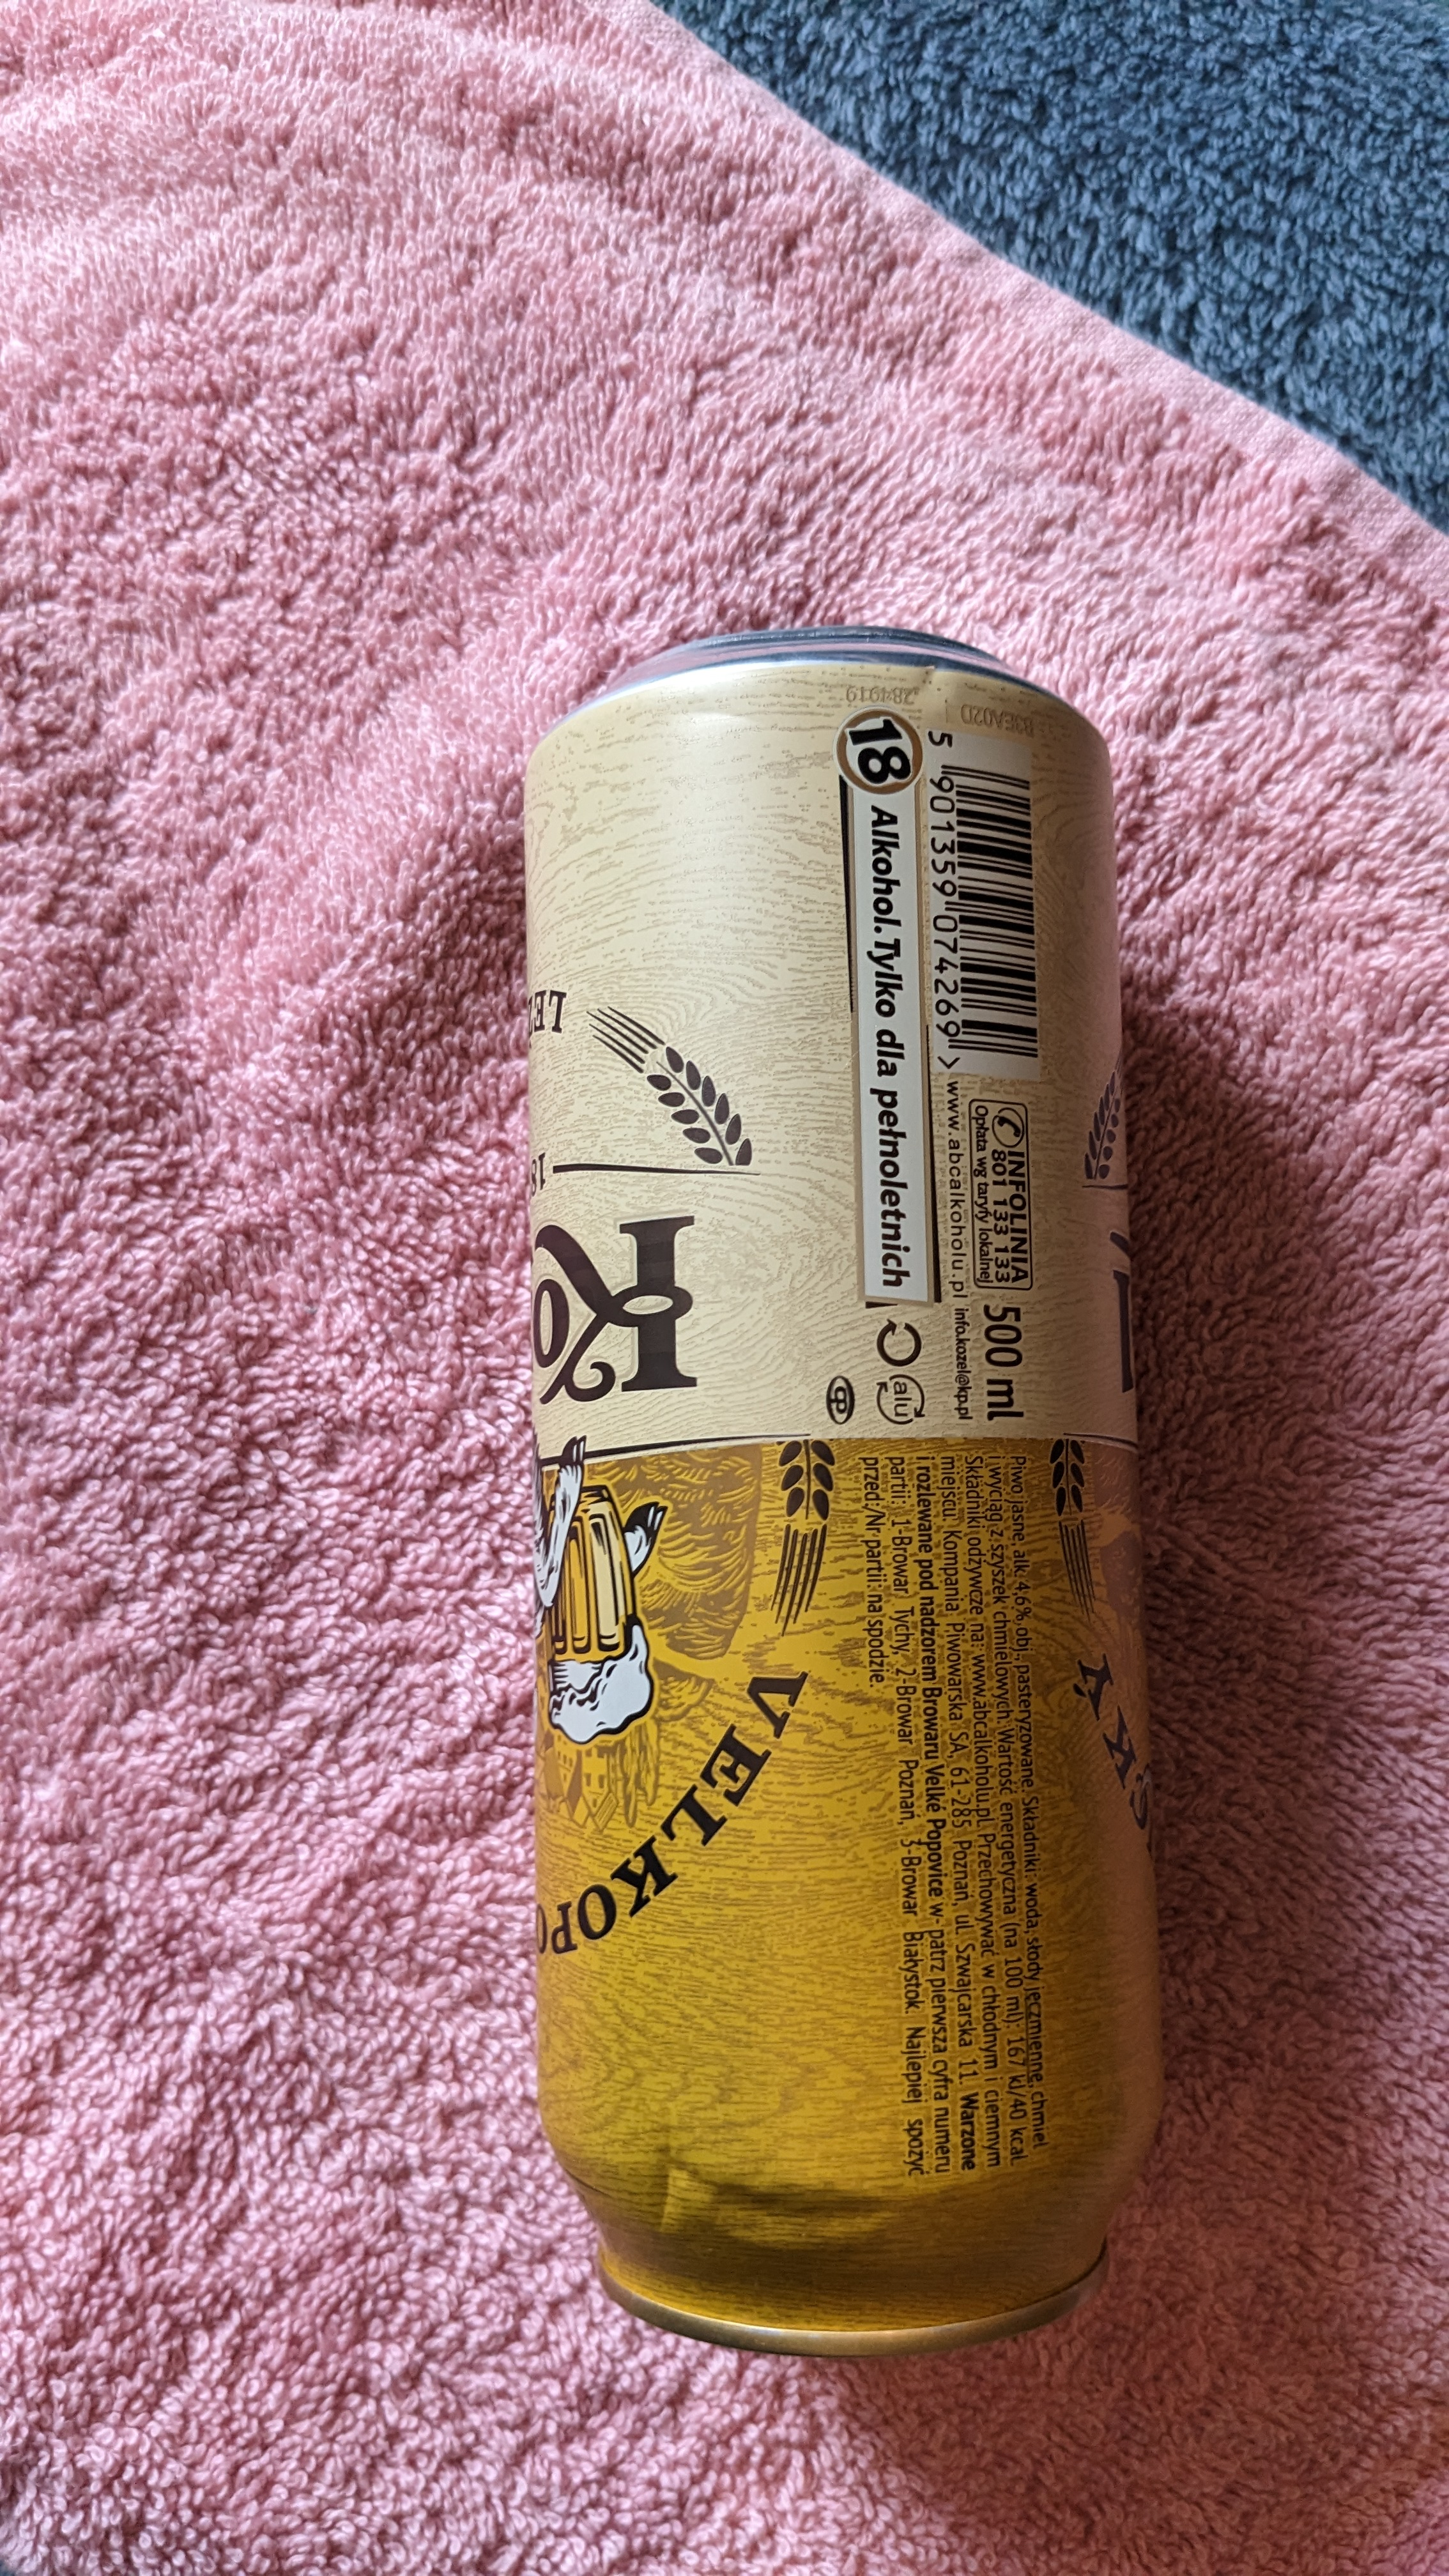kozel: (485, 591, 1150, 2410)
